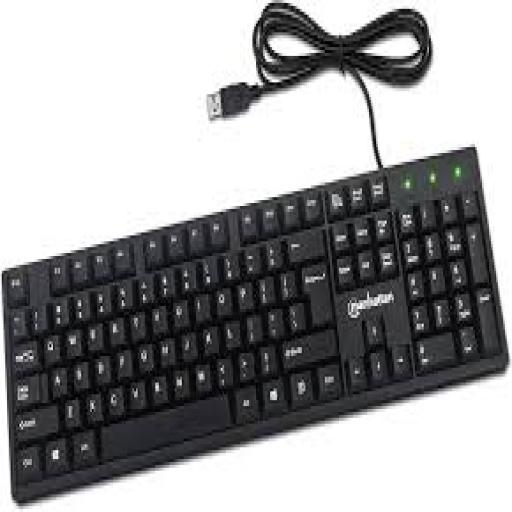KEYBOARD-2: (2, 147, 507, 500)
